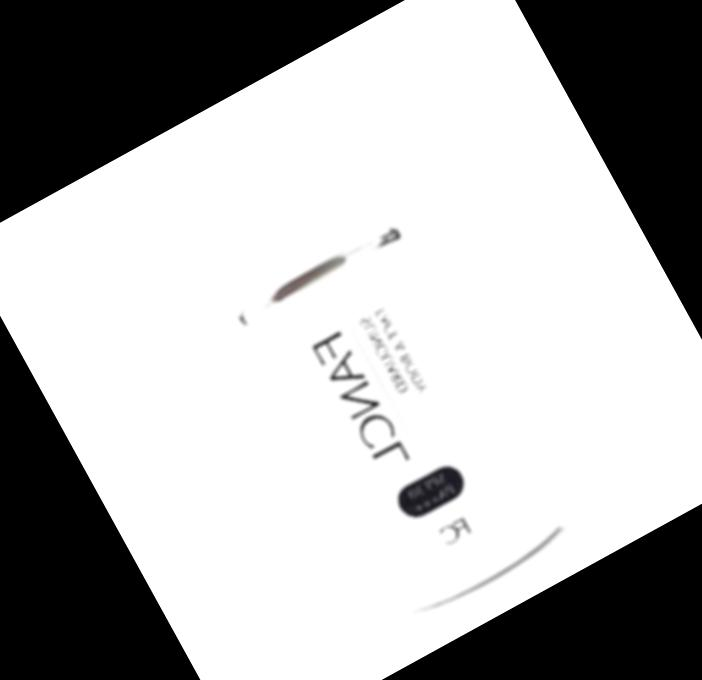cosmetic: (170, 120, 576, 630)
